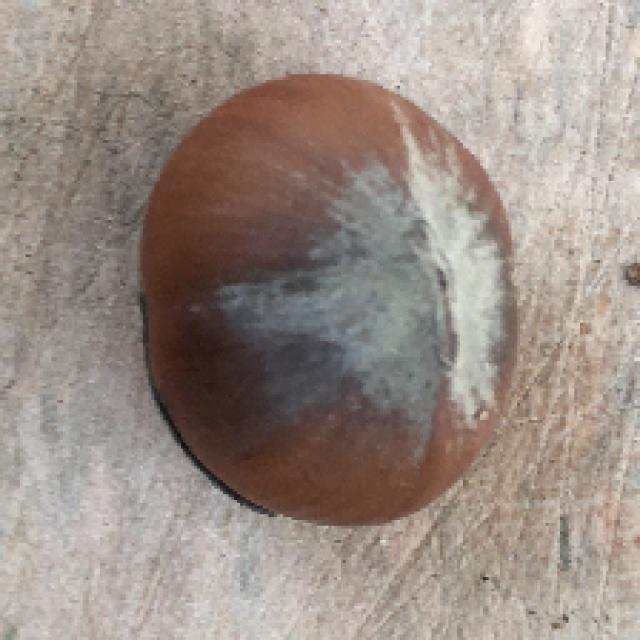damagedHazelnut: (142, 61, 530, 548)
